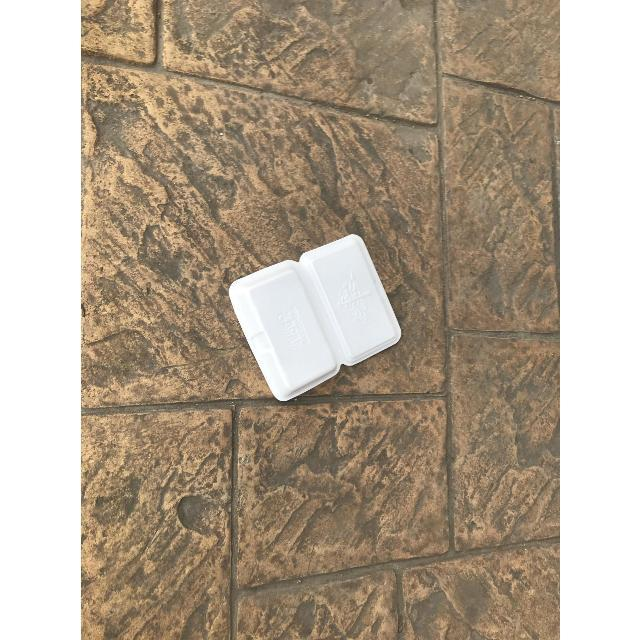Recipiente plastico: (230, 235, 401, 400)
